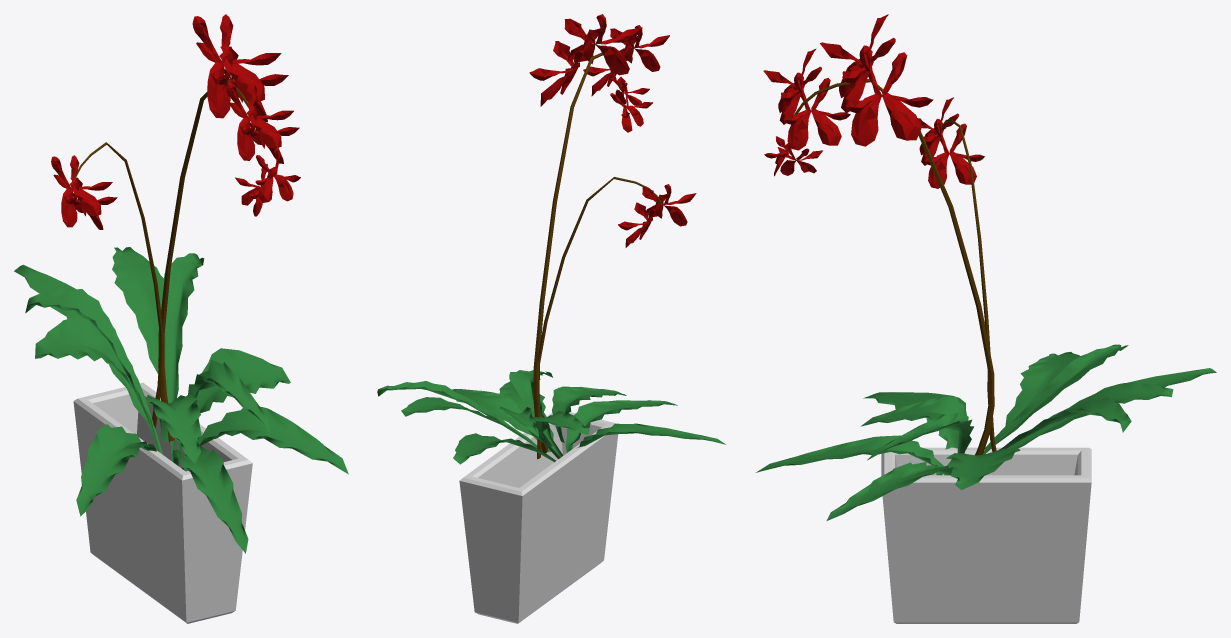
File: Plant 2.FBX
The picture shows the model from 3 angles, left to right: view 1: azimuth 30°, elevation 25°; view 2: azimuth 150°, elevation 25°; view 3: azimuth 270°, elevation 25°; orthographic projection. The views are drawn at different scales.
Parts seen in each view (by area): view 1: Plant 2; view 2: Plant 2; view 3: Plant 2.
Boxes of the visible parts, box(x1,y1,x2,y2) form: Plant 2: box(14, 14, 348, 623); Plant 2: box(377, 14, 725, 623); Plant 2: box(755, 14, 1216, 623).
Bounding box in the file's own units: 7862 × 12402 × 17503.
